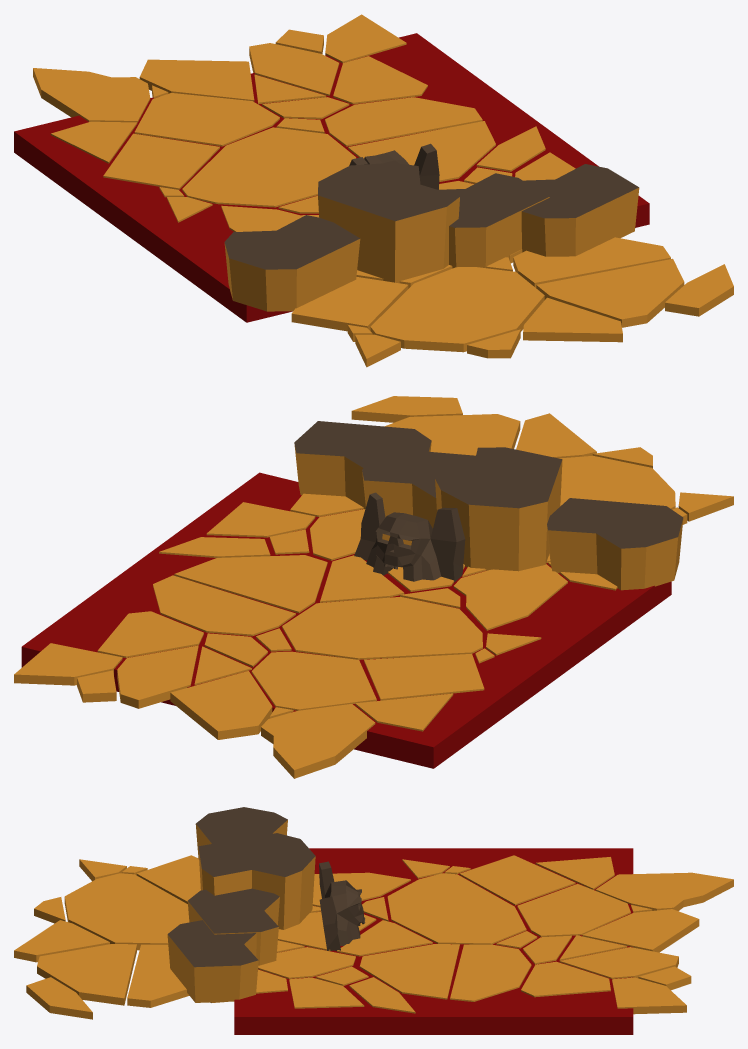
3 renders of one model, top to bottom at view 1: azimuth 30°, elevation 25°; view 2: azimuth 150°, elevation 25°; view 3: azimuth 270°, elevation 25°, orthographic. The views are drawn at different scales.
Parts seen in each view (by area): view 1: -mesh; view 2: -mesh; view 3: -mesh.
Boxes of the visible parts, box(x1,y1,x2,y2) form: -mesh: box(14, 14, 733, 367); -mesh: box(14, 396, 733, 778); -mesh: box(14, 807, 733, 1034).
Size of the model in its own units: 20.59 by 4.24 by 36.1.
